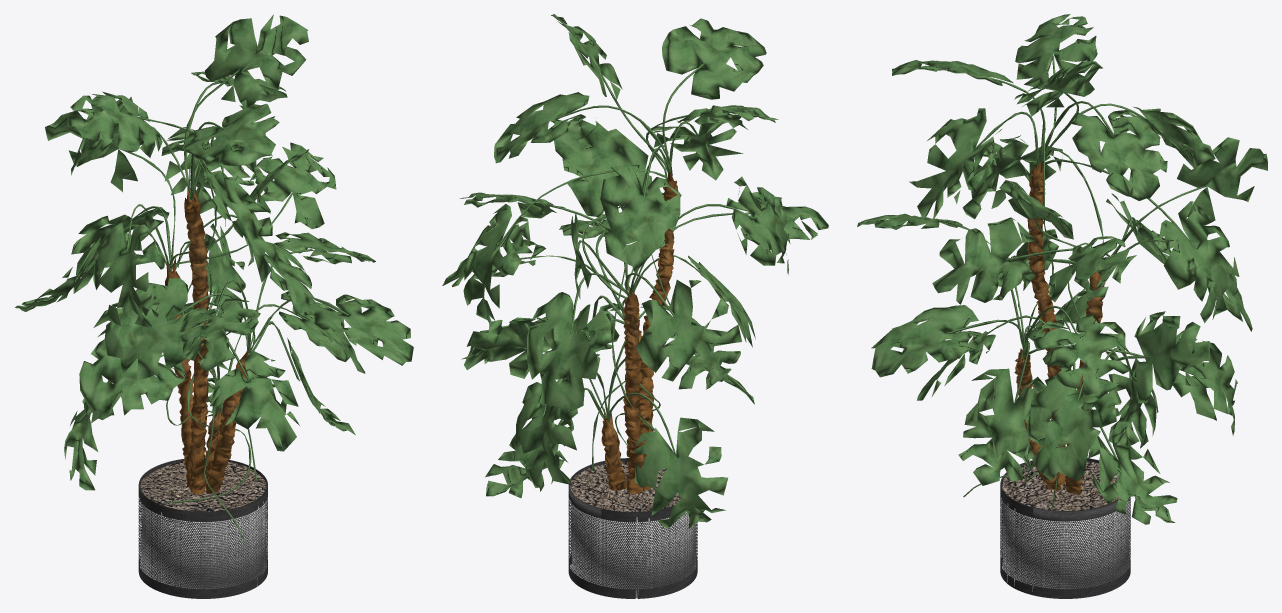
Rendered from skff003601.glb.
The picture shows the model from 3 angles, left to right: view 1: azimuth 30°, elevation 25°; view 2: azimuth 150°, elevation 25°; view 3: azimuth 270°, elevation 25°; orthographic projection.
Parts seen in each view (by area): view 1: Plant house Mano de leon N251220_0; view 2: Plant house Mano de leon N251220_0; view 3: Plant house Mano de leon N251220_0.
Boxes of the visible parts, box(x1,y1,x2,y2) form: Plant house Mano de leon N251220_0: box(15, 14, 413, 598); Plant house Mano de leon N251220_0: box(442, 14, 828, 598); Plant house Mano de leon N251220_0: box(857, 14, 1267, 598).
Bounding box in the file's own units: 0.557 × 0.8957 × 0.6157.
5 materials, 4 textured.
